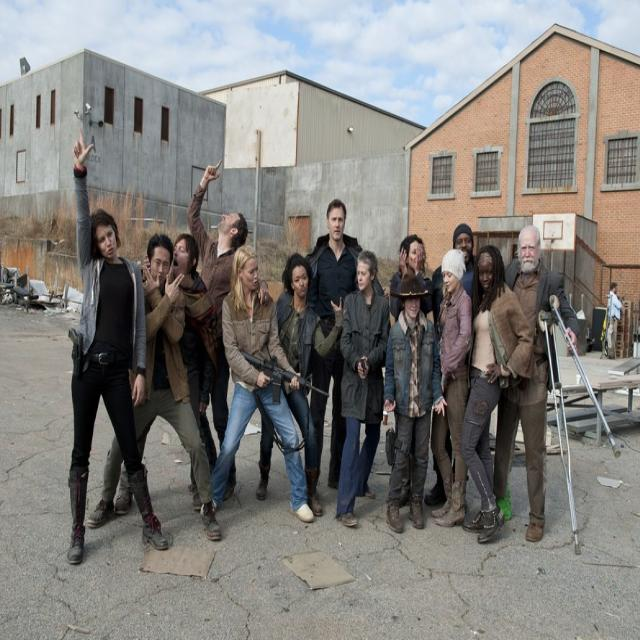body: (62, 125, 170, 565), (84, 228, 224, 542), (198, 242, 316, 525), (489, 222, 581, 546), (303, 199, 390, 502), (253, 252, 348, 520), (129, 230, 215, 517), (184, 156, 250, 506), (459, 243, 535, 546), (381, 270, 448, 535), (334, 248, 391, 528), (428, 244, 477, 526), (430, 221, 479, 332), (388, 233, 435, 322), (606, 281, 624, 344)
